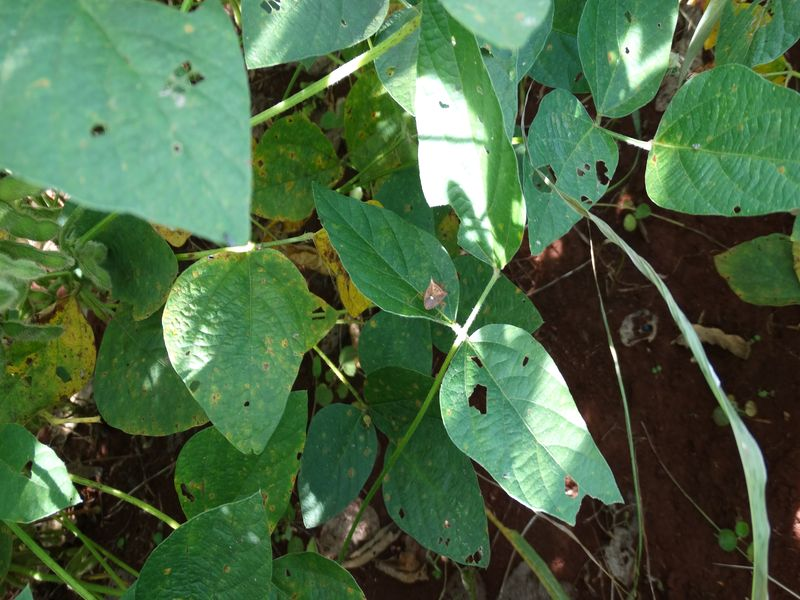Euschistus_heros_adulto: (409, 273, 456, 322)
